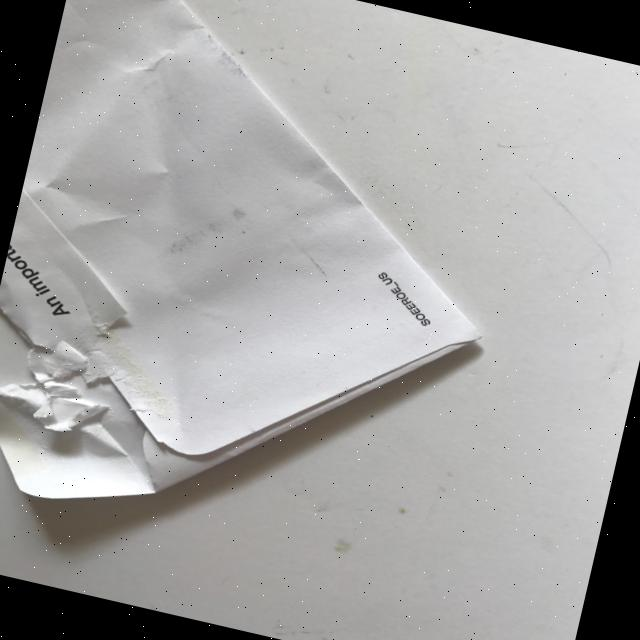paper: (0, 0, 550, 586)
